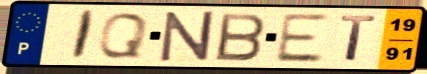B: (213, 11, 268, 63)
E: (272, 11, 330, 64)
I: (68, 9, 98, 62)
N: (159, 10, 216, 64)
Q: (94, 11, 151, 60)
T: (338, 14, 379, 64)
